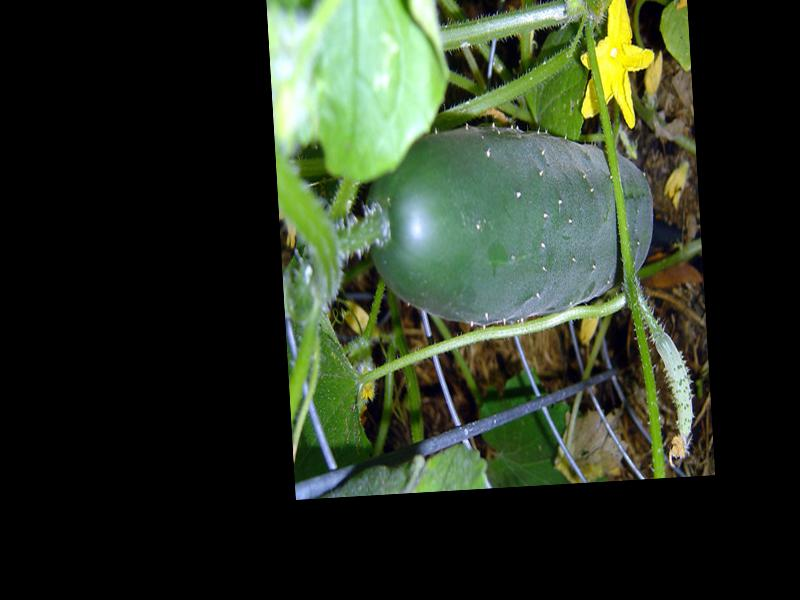Cucumber: (362, 117, 658, 334)
